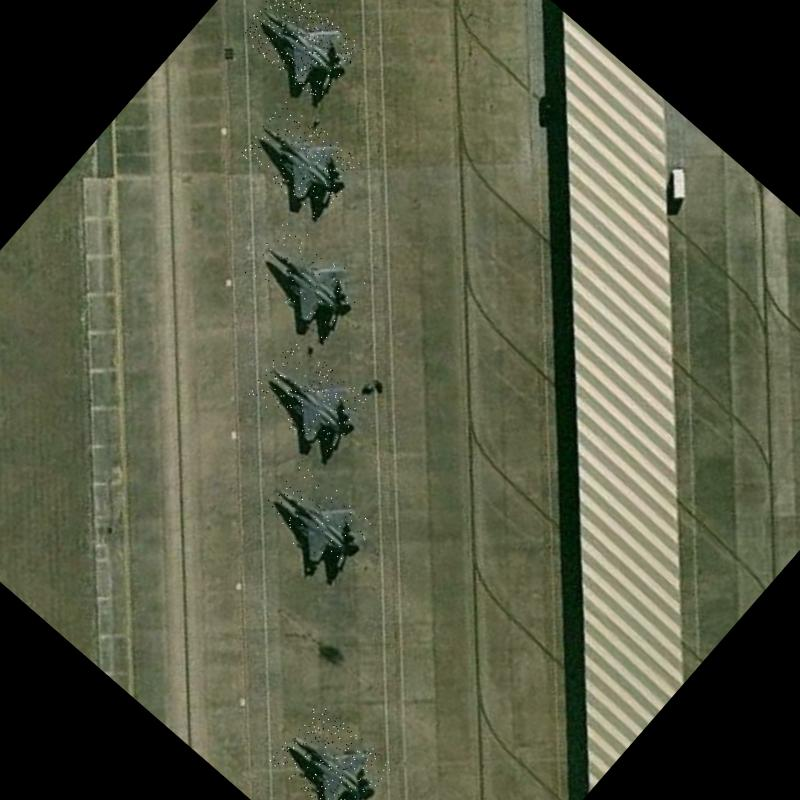A13: (242, 216, 371, 342), (246, 335, 372, 459), (239, 98, 364, 220), (254, 461, 377, 582), (237, 0, 364, 104), (268, 702, 394, 800)
